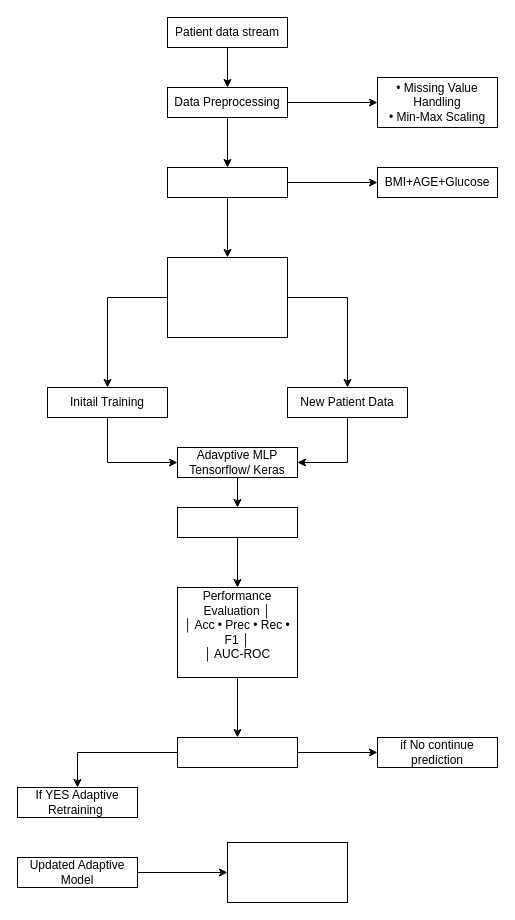
This 515x920 diagram has some shape labels left out. Here are the shapes that lost their labels. From the top down, the box of each, then its label:
(166, 166, 288, 198): Feature Engineering
(166, 256, 288, 338): Sliding Window Generator Batch1 → Batch2 → Batch3
(176, 506, 298, 538): Diseae Risk Prediction
(176, 736, 298, 768): Drift Perfomance Check
(226, 842, 348, 902): Early Disease Warning & Risk Notification
